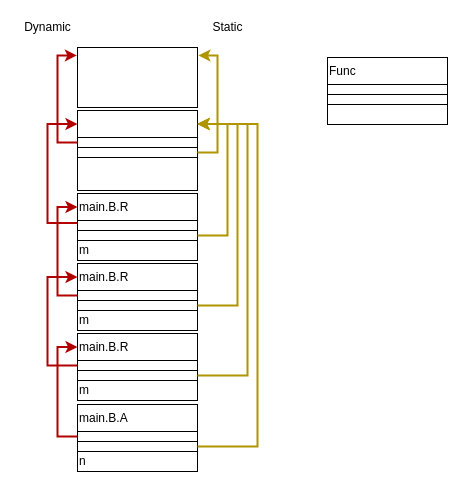
Some shapes in this 465 by 489 pixel diagram are drawn without their labels. Each missing label, with the box of its shape:
a x: (76, 156, 198, 190)
main ---- ---- g: (76, 46, 198, 108)
main.B: (76, 110, 198, 138)
